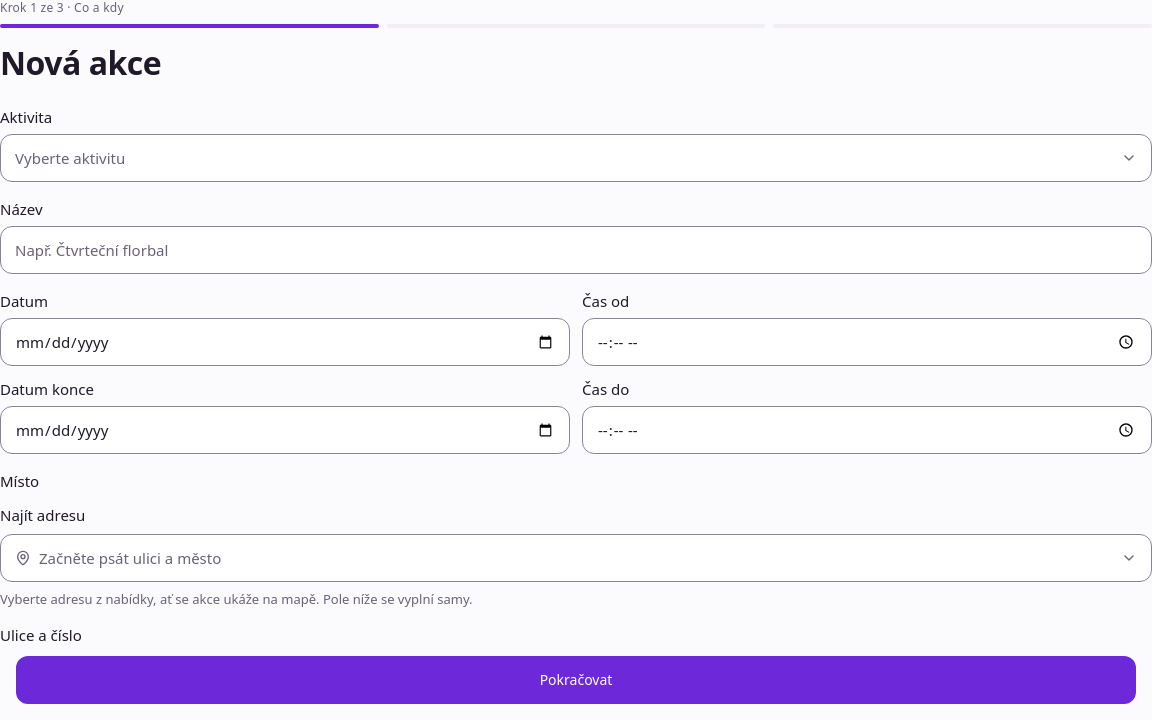
Test: EventForm address suggestions › fills the address fields from the picked suggestion
Click the dropdown named "Najít adresu" at (130, 558), box [0,534,1151,582]
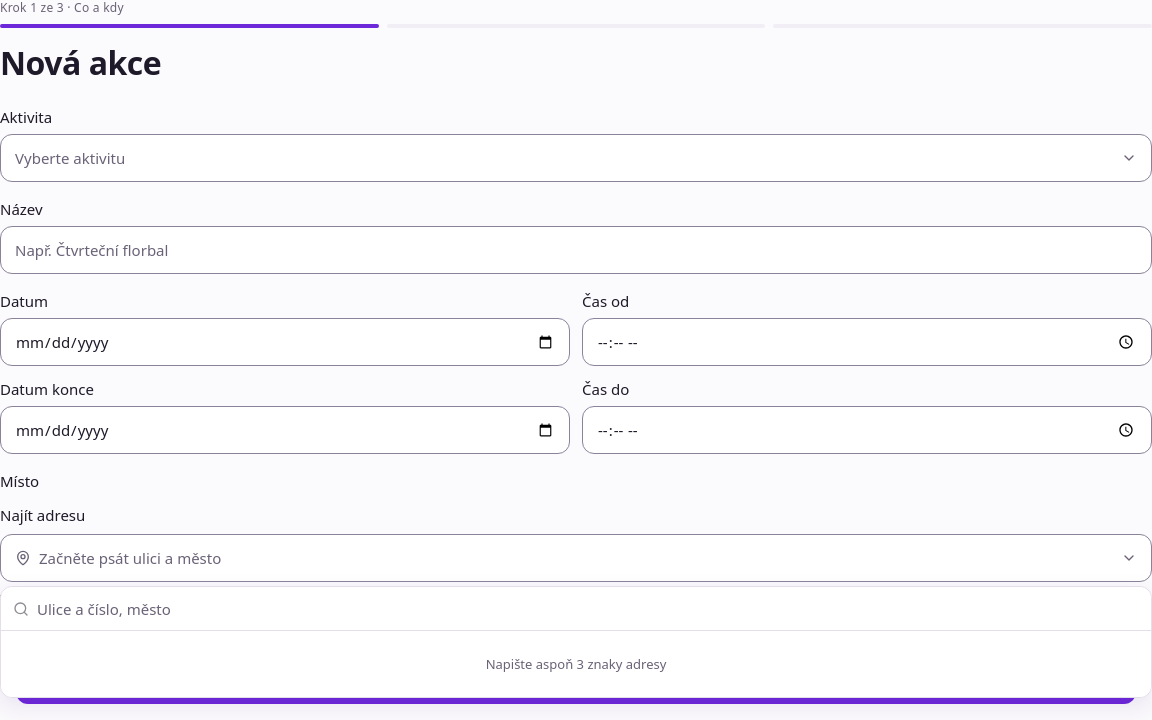
Type "Chabařo" into the dropdown with placeholder "Ulice a číslo, město" at (588, 608), box [37,588,1139,628]
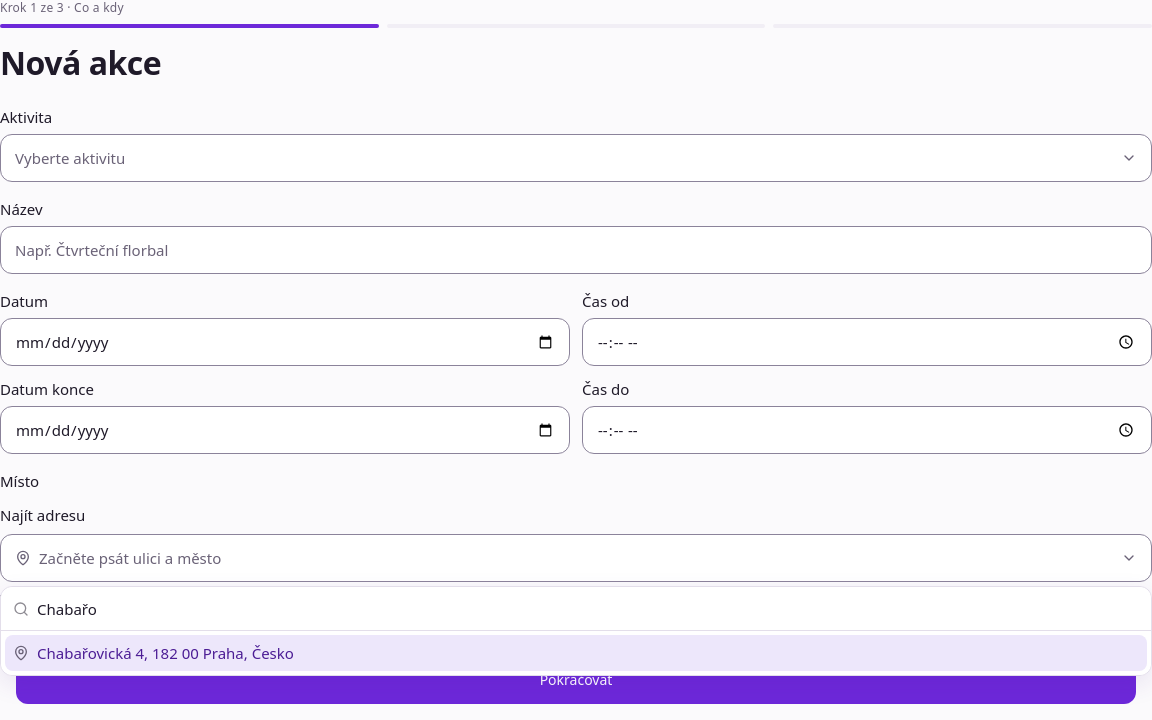
Click the option "Chabařovická 4, 182 00 Praha, Česko" at (165, 653), box [5,635,1147,671]
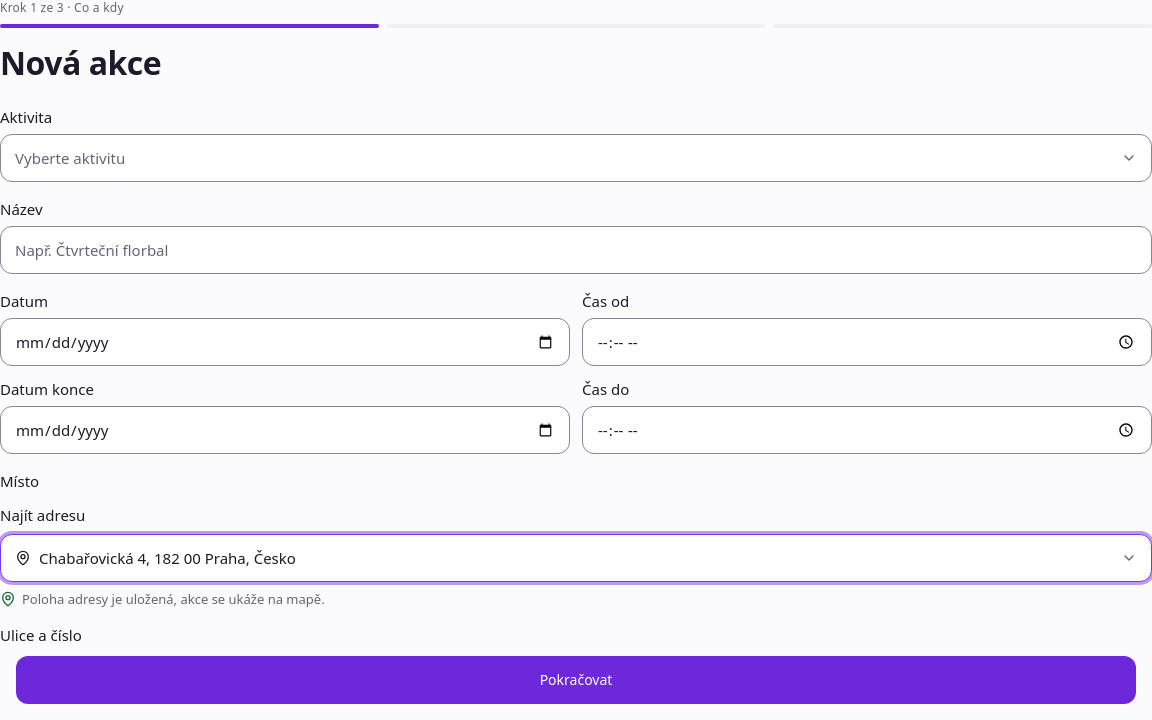
Expected: the field labelled "Ulice a číslo" holds "Chabařovická 4", [0,652,1151,700]
Expected: the text "Poloha adresy je uložená, akce se ukáže na mapě." is shown, [0,590,325,608]
